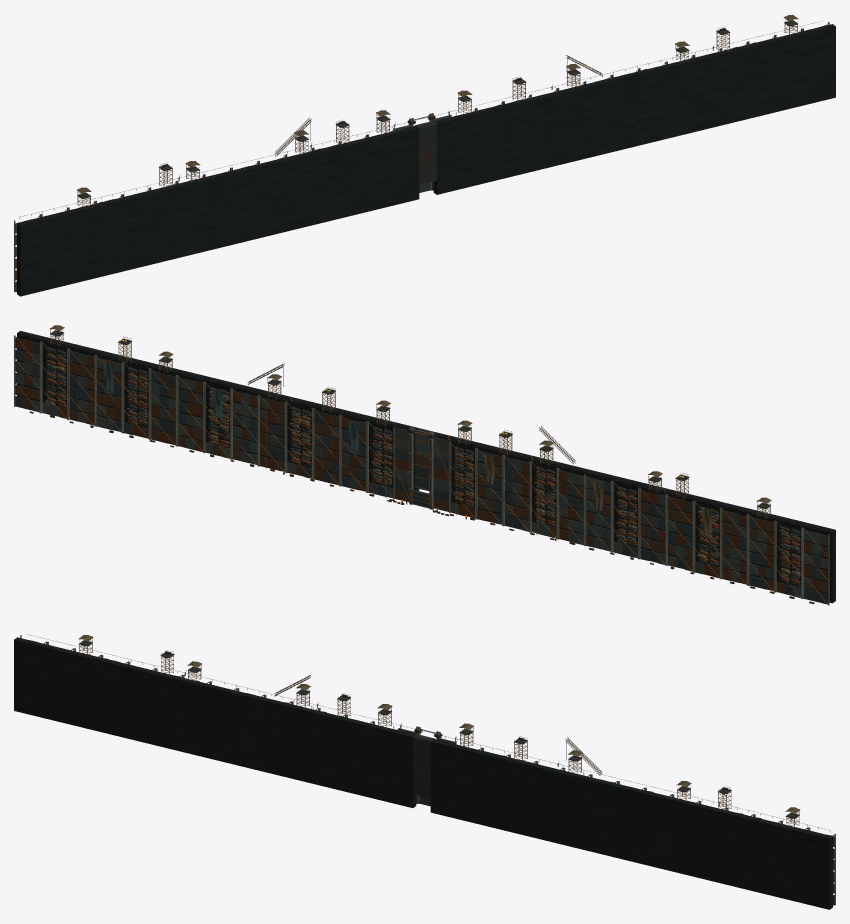
File: wall.glb
The picture shows the model from 3 angles, top to bottom: view 1: azimuth 30°, elevation 25°; view 2: azimuth 150°, elevation 25°; view 3: azimuth 330°, elevation 25°; orthographic projection.
Visible parts, largest first — view 1: wall-body, scaffold-steel, wall-details; view 2: wall-body, scaffold-steel, hulk-stacks, wall-details; view 3: wall-body, scaffold-steel, wall-details.
Part boxes in pixels (<box>): wall-body: <box>15,24,835,296</box>; scaffold-steel: <box>14,14,829,291</box>; wall-details: <box>77,15,798,193</box>; wall-body: <box>15,331,835,604</box>; scaffold-steel: <box>14,328,829,605</box>; hulk-stacks: <box>45,351,800,587</box>; wall-details: <box>29,325,814,604</box>; wall-body: <box>14,637,834,909</box>; scaffold-steel: <box>20,634,835,905</box>; wall-details: <box>78,635,800,813</box>.
Size of the model in its own units: 420 by 51.75 by 9.1.
3 materials, 3 textured.
